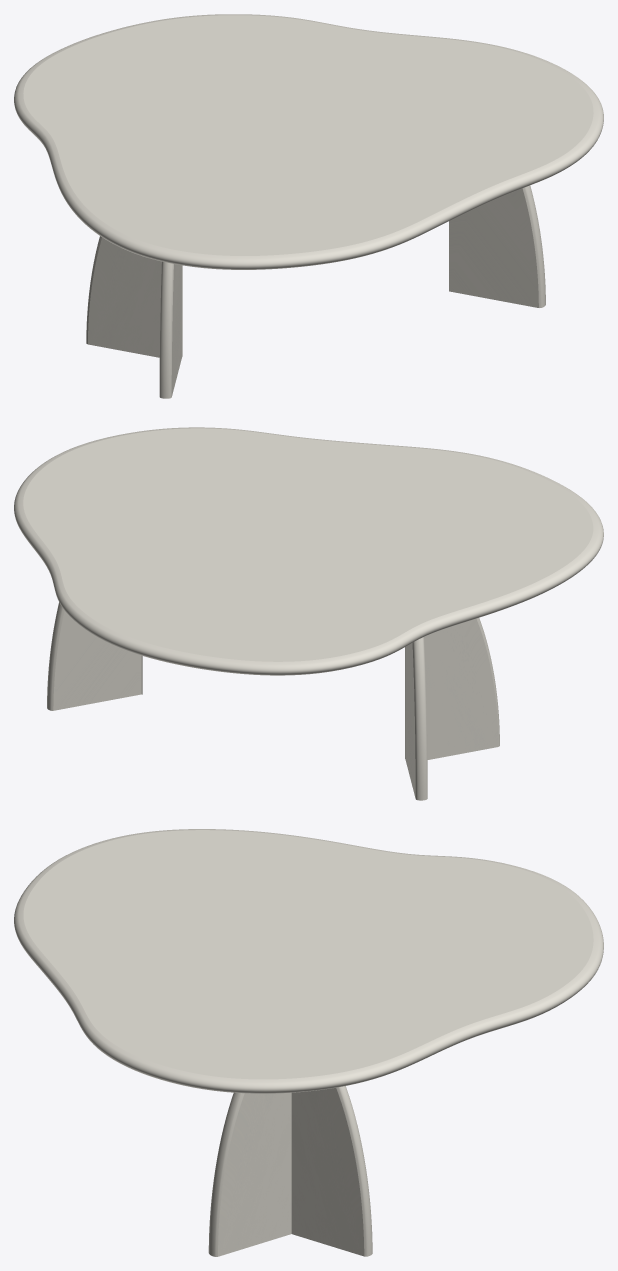
The model's file is pale_topone_round_newtable2.glb.
3 renders of one model, top to bottom at view 1: azimuth 30°, elevation 25°; view 2: azimuth 150°, elevation 25°; view 3: azimuth 270°, elevation 25°, orthographic. The views are drawn at different scales.
Parts seen in each view (by area): view 1: round_topone, newtable2_singleright2, newtable2_singleleft1, newtable2_singleright1; view 2: round_topone, newtable2_singleright1, newtable2_singleleft2, newtable2_singleleft1; view 3: round_topone, newtable2_singleright2, newtable2_singleleft2.
Part boxes in pixels (x1,y1,x2,y2): round_topone: (14,14,603,269); newtable2_singleright2: (449,185,545,307); newtable2_singleleft1: (86,236,182,357); newtable2_singleright1: (159,261,182,398); round_topone: (14,427,603,675); newtable2_singleright1: (405,618,499,759); newtable2_singleleft2: (47,602,141,710); newtable2_singleleft1: (405,637,427,800); round_topone: (14,829,603,1093); newtable2_singleright2: (208,1092,291,1256); newtable2_singleleft2: (291,1086,372,1256).
Bounding box in the file's own units: 6.83 × 2.49 × 6.6.
1 material, 1 textured.
